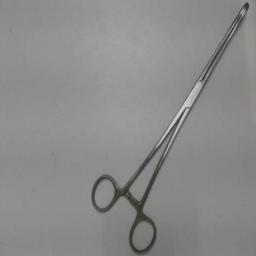Sponge Forceps: (86, 1, 254, 255)
